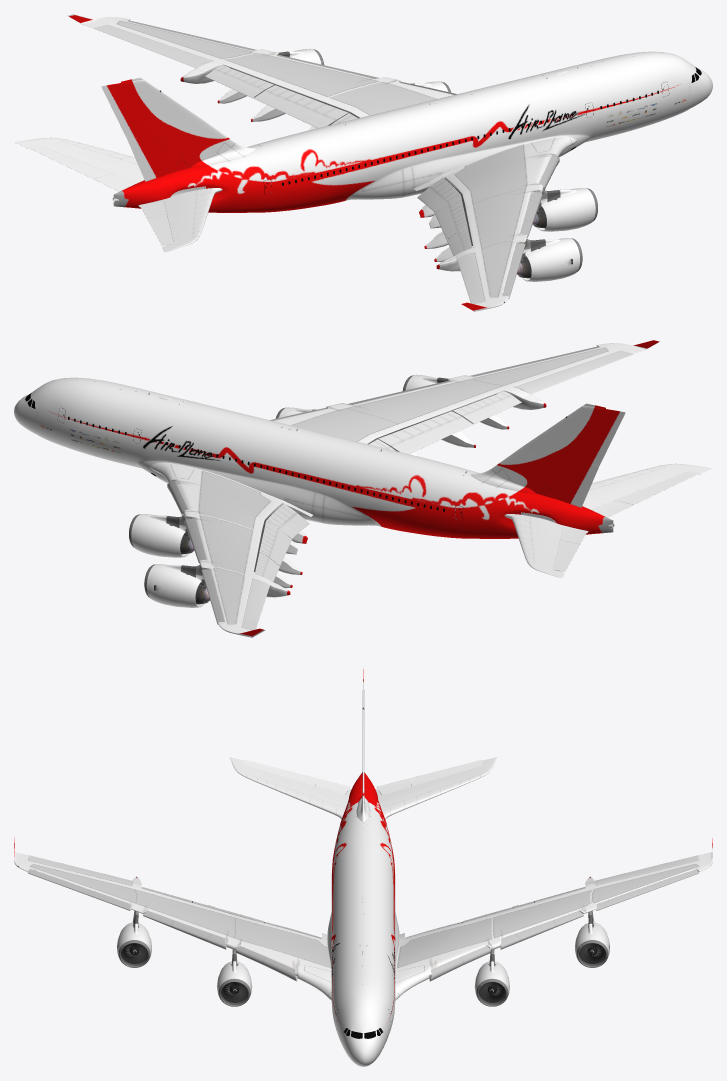
The model's file is test.glbEfDGOGmEcJYsDT0HJteB.glb.
The picture shows the model from 3 angles, top to bottom: view 1: azimuth 30°, elevation 25°; view 2: azimuth 150°, elevation 25°; view 3: azimuth 270°, elevation 25°; orthographic projection. The views are drawn at different scales.
Visible parts, largest first — view 1: 11803_Airplane_v1_l1; view 2: 11803_Airplane_v1_l1; view 3: 11803_Airplane_v1_l1.
Part boxes in pixels (box(x1,y1,x2,y2)): 11803_Airplane_v1_l1: box(14, 14, 712, 311); 11803_Airplane_v1_l1: box(14, 340, 712, 637); 11803_Airplane_v1_l1: box(14, 666, 712, 1066).
Size of the model in its own units: 3.7 by 1.05 by 4.06.
Materials: 6 (6 with a texture image).
